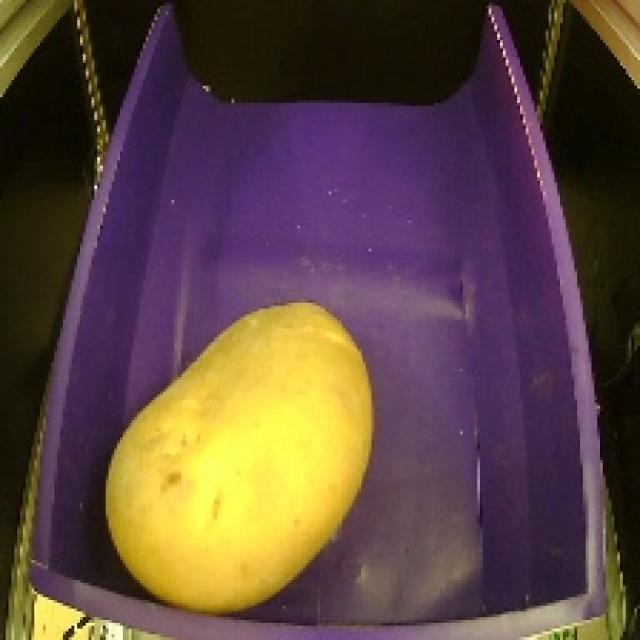full_potato: (93, 292, 380, 620)
